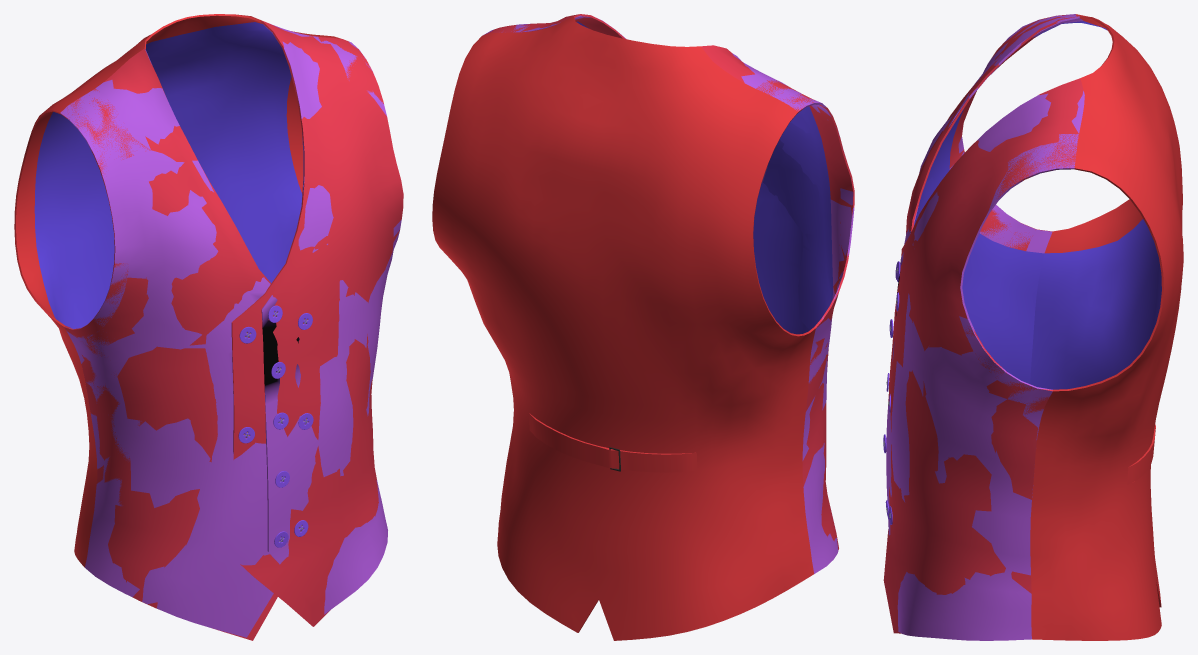
The model's file is Waistcoat_05.fbx.
3 views of the same model, side by side, from view 1: azimuth 30°, elevation 25°; view 2: azimuth 150°, elevation 25°; view 3: azimuth 270°, elevation 25° (orthographic). The views are drawn at different scales.
Visible parts, largest first — view 1: Front_DB, Front SB, Back_Fabric, Front_DB_Buttons, Front_SB_Buttons; view 2: Back_Fabric, Front_DB, Front SB; view 3: Back_Fabric, Front_DB, Front SB.
Boxes of the visible parts, bbox=[...] form: Front_DB: bbox=[61, 20, 403, 640]; Front SB: bbox=[60, 24, 401, 637]; Back_Fabric: bbox=[14, 14, 343, 567]; Front_DB_Buttons: bbox=[238, 313, 313, 536]; Front_SB_Buttons: bbox=[268, 305, 289, 547]; Back_Fabric: bbox=[432, 16, 815, 640]; Front_DB: bbox=[483, 14, 854, 549]; Front SB: bbox=[484, 15, 854, 573]; Back_Fabric: bbox=[1030, 14, 1183, 640]; Front_DB: bbox=[883, 15, 1083, 633]; Front SB: bbox=[886, 14, 1084, 640].
Bounding box in the file's own units: 37.51 × 60.89 × 28.63.
